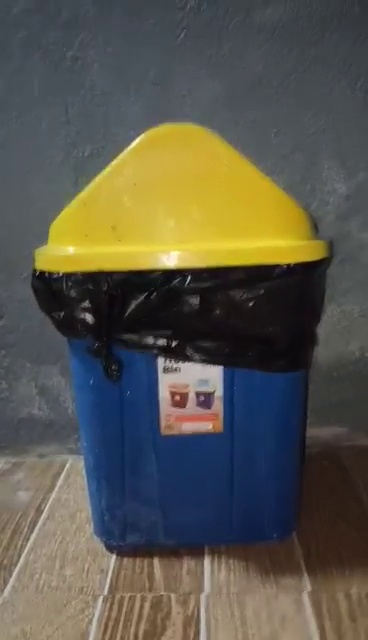garbagebin: (35, 123, 335, 557)
